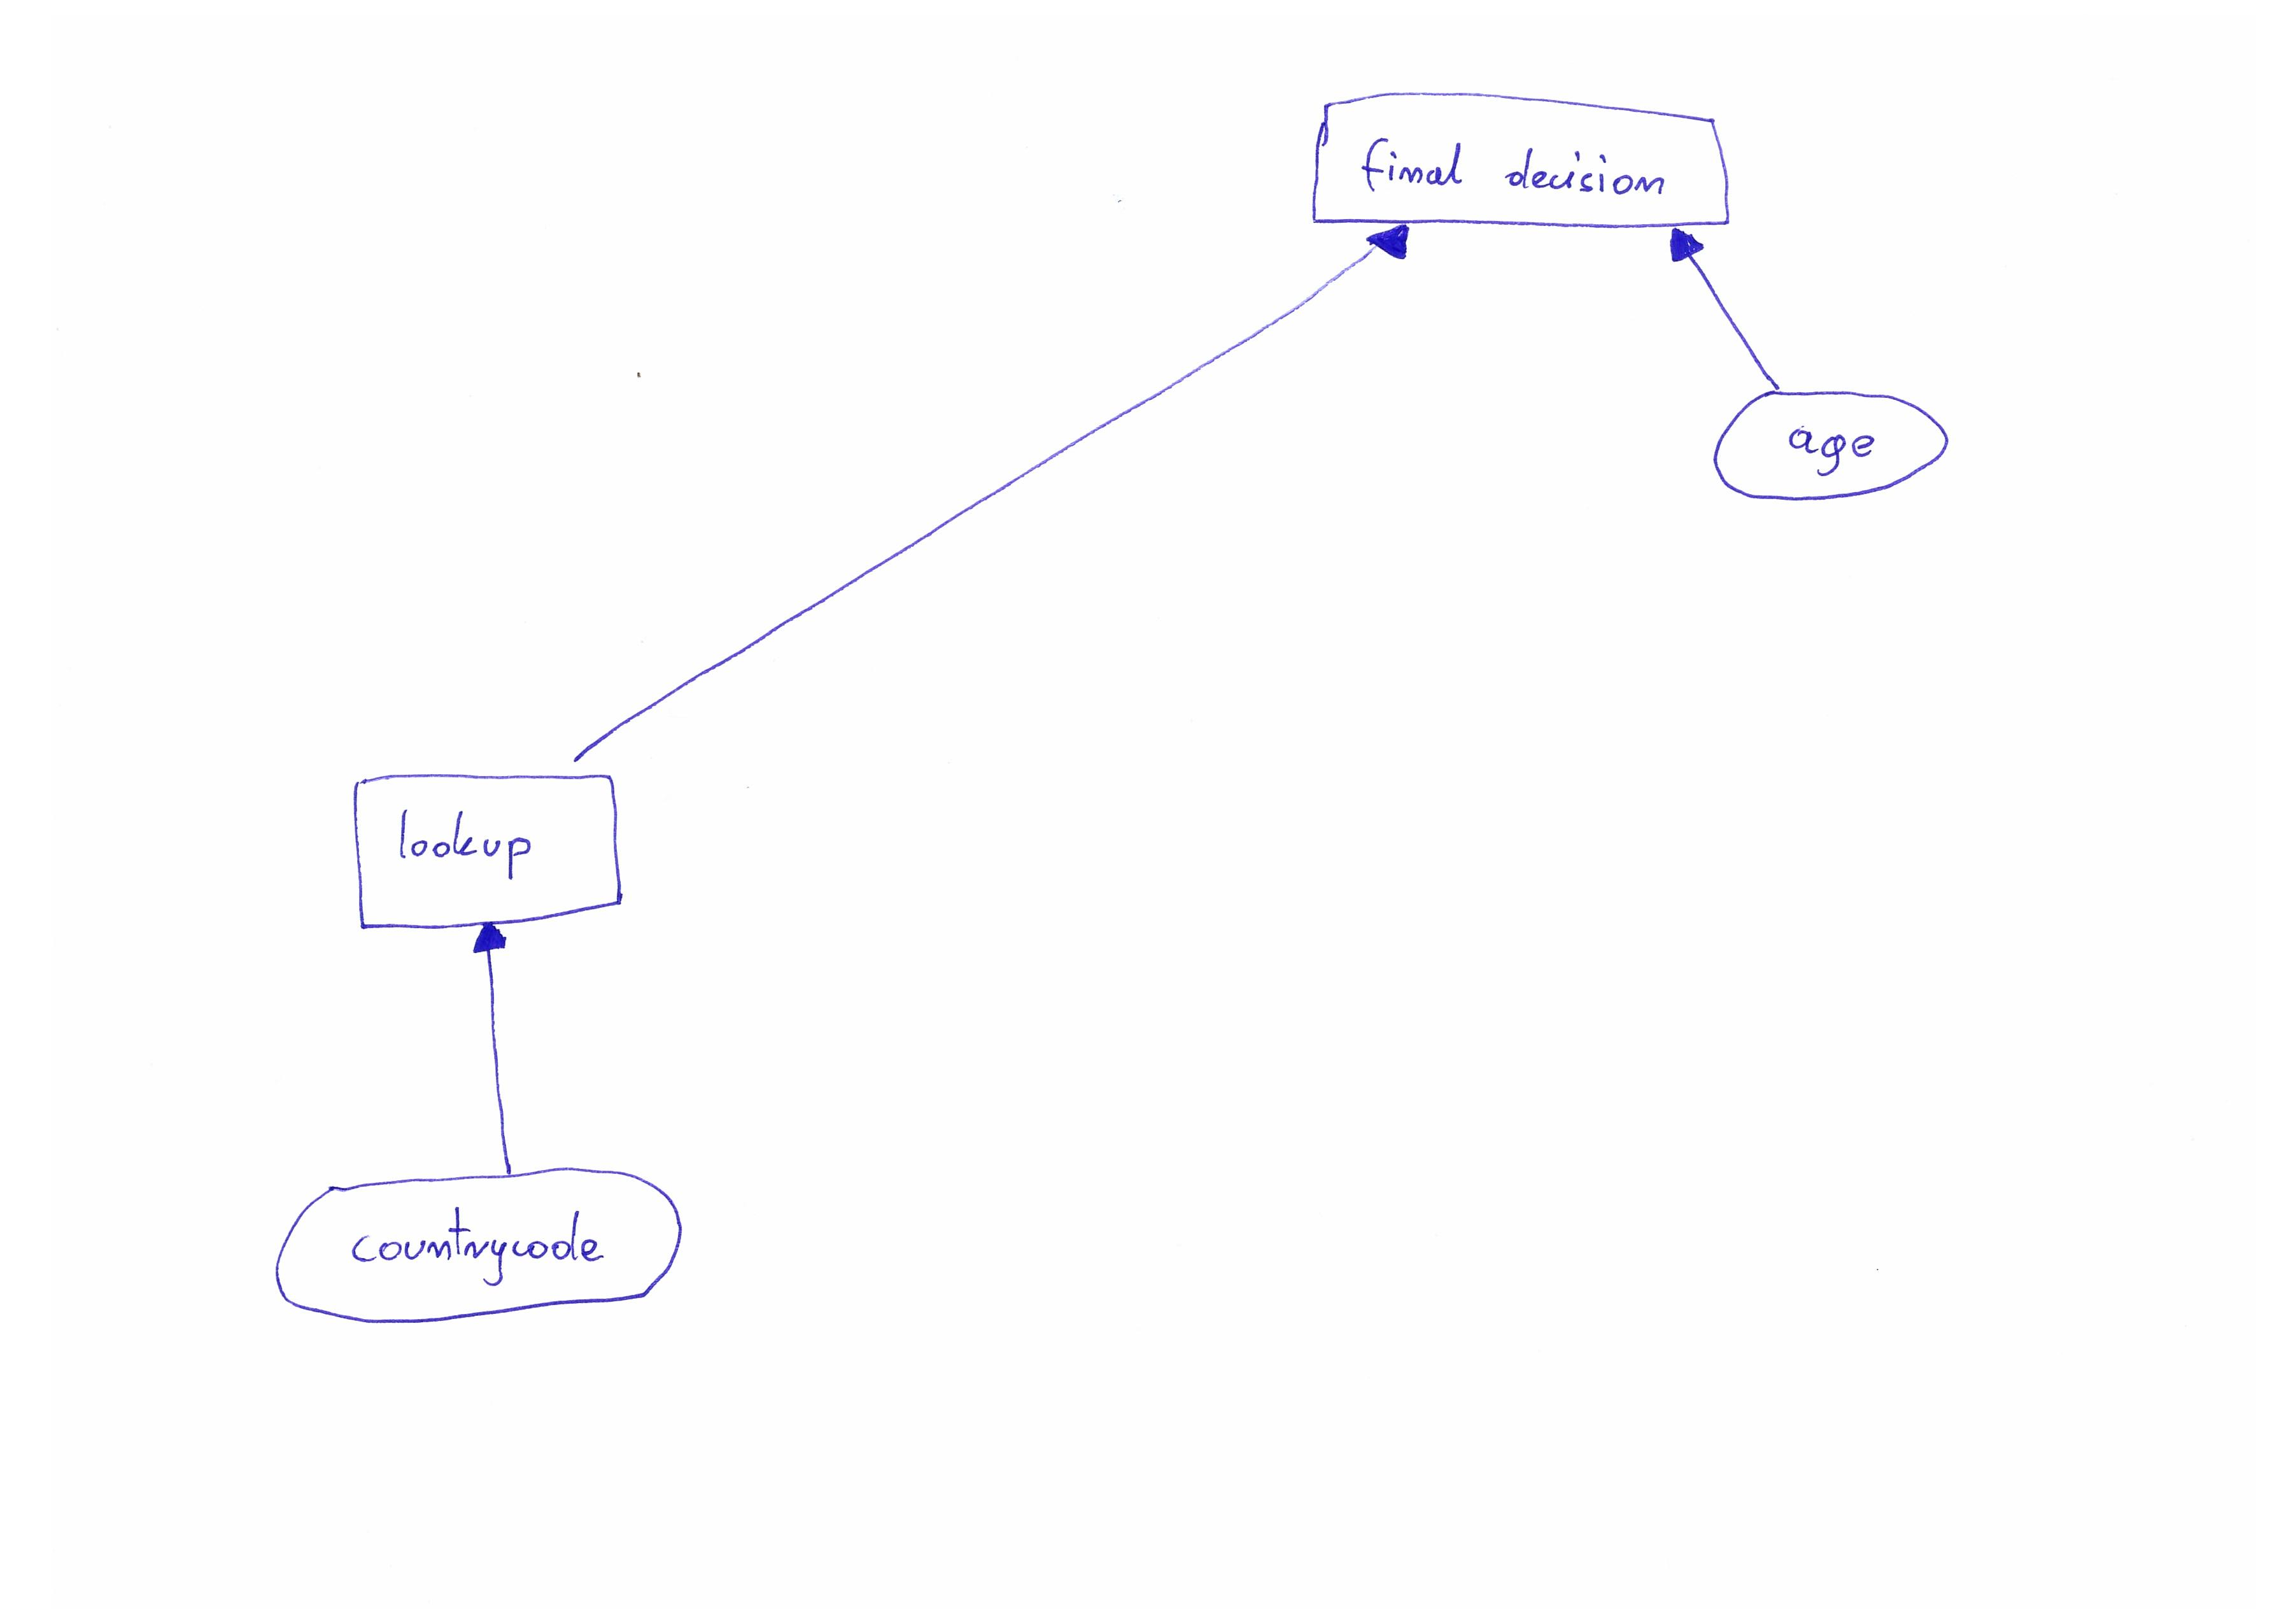arrow_information_requirement: (552, 223, 1429, 768), (1655, 227, 1799, 392), (471, 921, 522, 1172)
node_decision: (1311, 88, 1736, 228), (339, 770, 626, 930)
node_input_data: (272, 1167, 712, 1325), (1699, 390, 1972, 504)
text: (1349, 121, 1675, 206), (344, 1195, 610, 1292), (383, 798, 541, 895), (1775, 411, 1885, 485)
